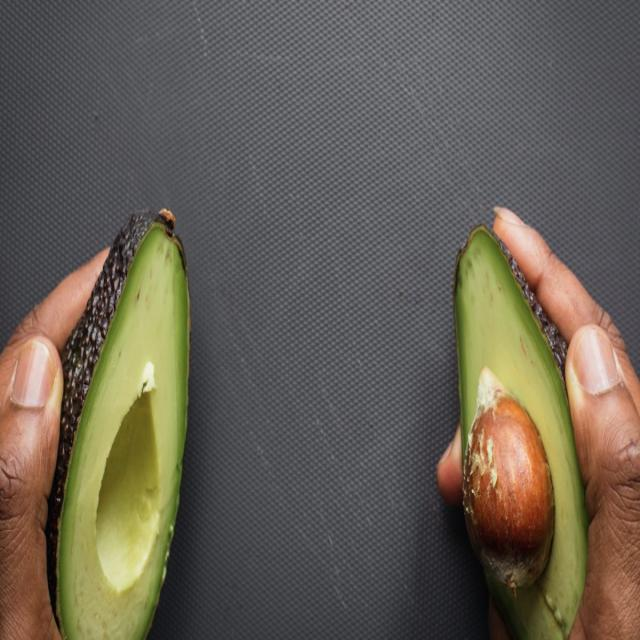aguacate: (436, 216, 594, 640), (58, 200, 205, 634)
